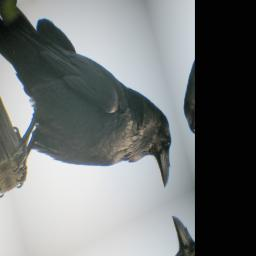Crow: (0, 0, 185, 256)
